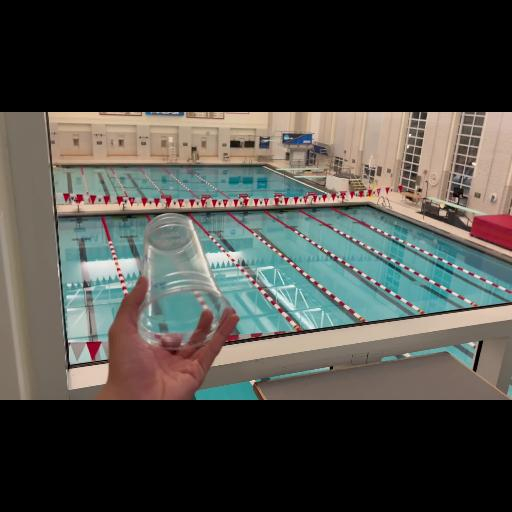lp_plastic_cup: (128, 206, 238, 356)
